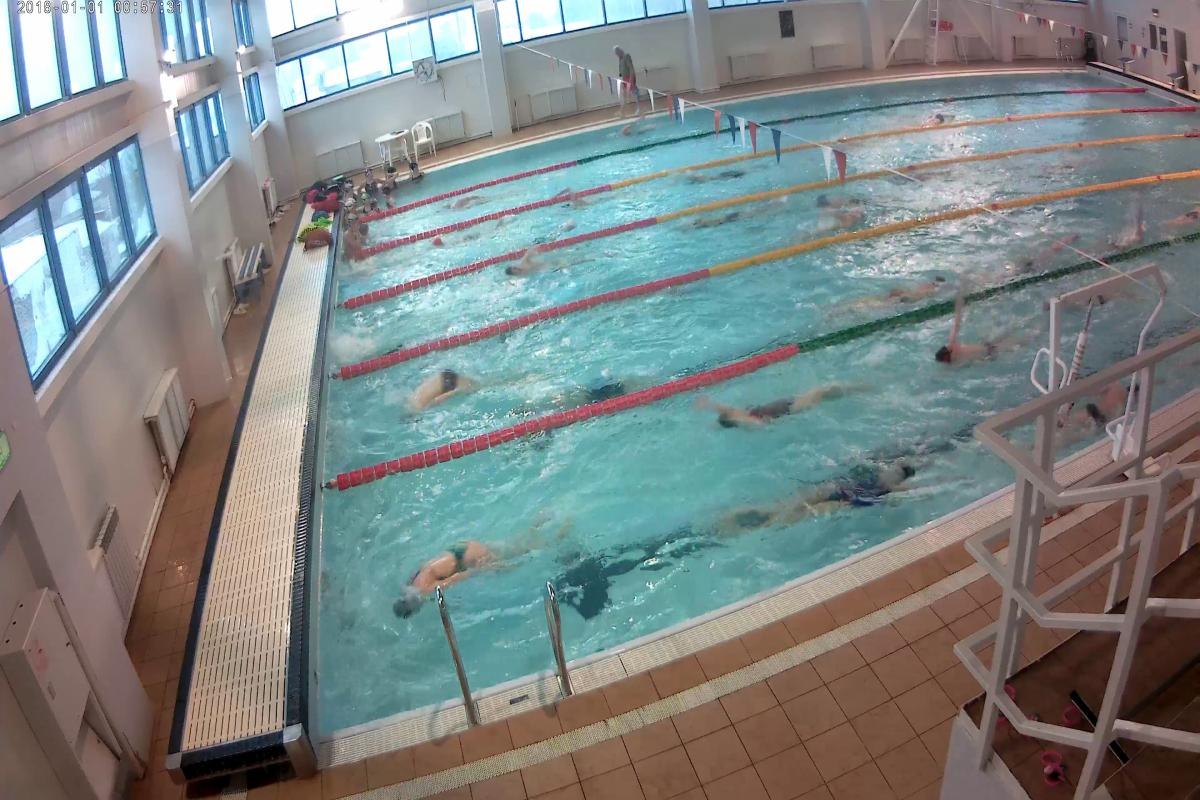swimmer: (766, 449, 922, 535), (698, 374, 864, 435), (389, 534, 511, 599), (396, 357, 482, 426), (924, 320, 1009, 375), (865, 265, 953, 307), (701, 200, 767, 240), (1070, 383, 1131, 426), (1106, 202, 1152, 249), (502, 251, 542, 286), (916, 110, 953, 126)
